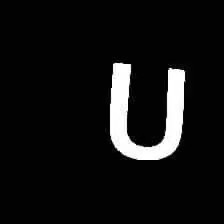LTR_U: (99, 53, 191, 167)
